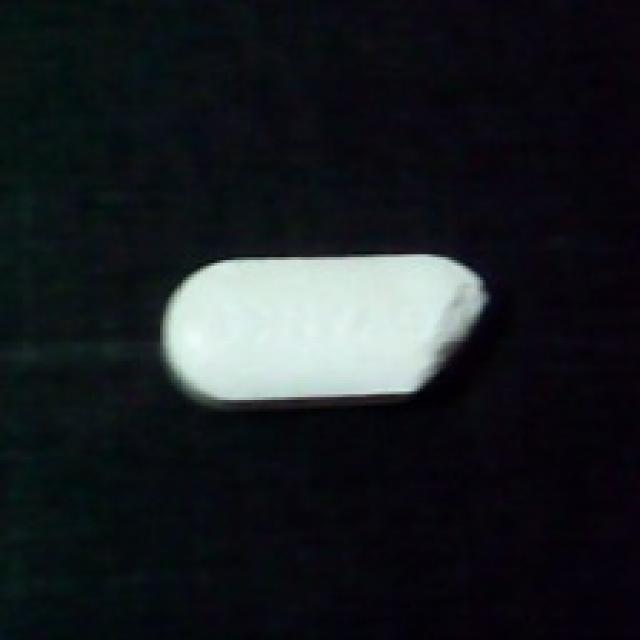defected: (154, 243, 500, 417)
